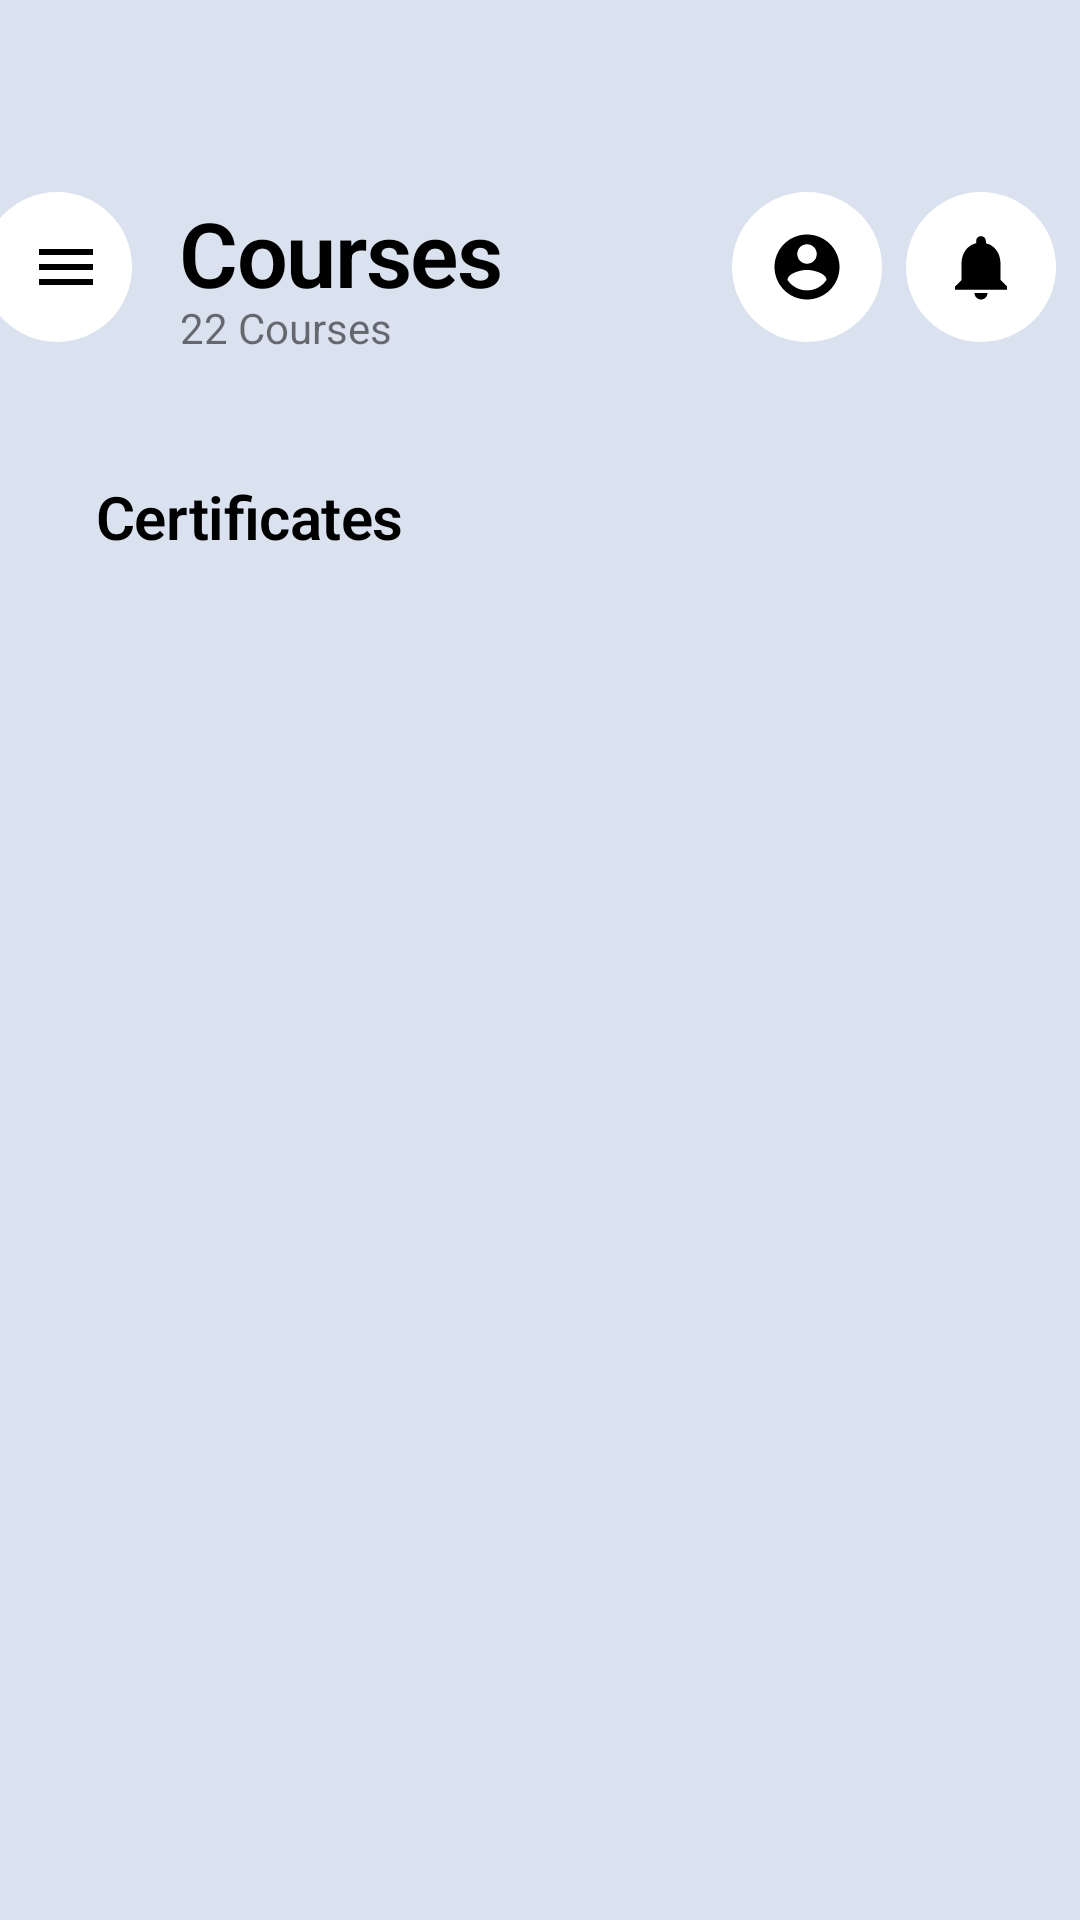

Icon click points for this 1080px x 1920px phone screenshot, format [x,y]:
account circle: [807,267]
menu: [66,267]
notification: [981,267]
